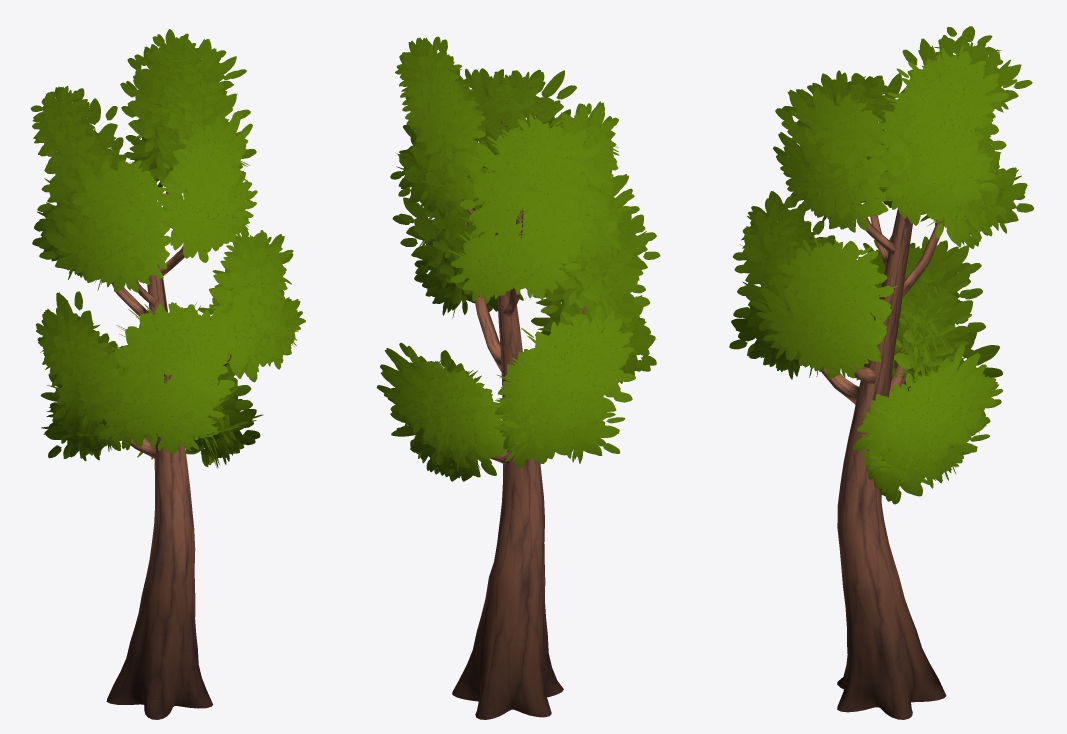
Rendered from tree_3.glb.
3 renders of one model, left to right at view 1: azimuth 30°, elevation 25°; view 2: azimuth 150°, elevation 25°; view 3: azimuth 270°, elevation 25°, orthographic. The views are drawn at different scales.
Visible parts, largest first — view 1: CommonTree_3; view 2: CommonTree_3; view 3: CommonTree_3.
Boxes of the visible parts, left/top/right/bottom form: CommonTree_3: left=30, top=29, right=305, bottom=719; CommonTree_3: left=376, top=36, right=660, bottom=719; CommonTree_3: left=729, top=26, right=1033, bottom=719.
Size of the model in its own units: 4.06 by 9.43 by 4.24.
2 materials, 2 textured.
